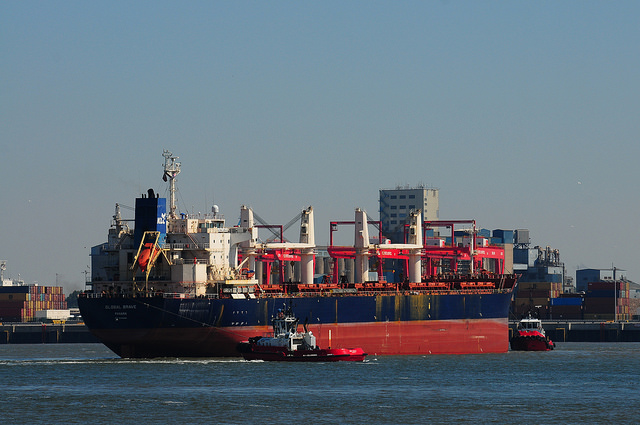bulk carrier: (81, 147, 516, 354)
tug_boat: (241, 301, 369, 365), (512, 295, 559, 348)
